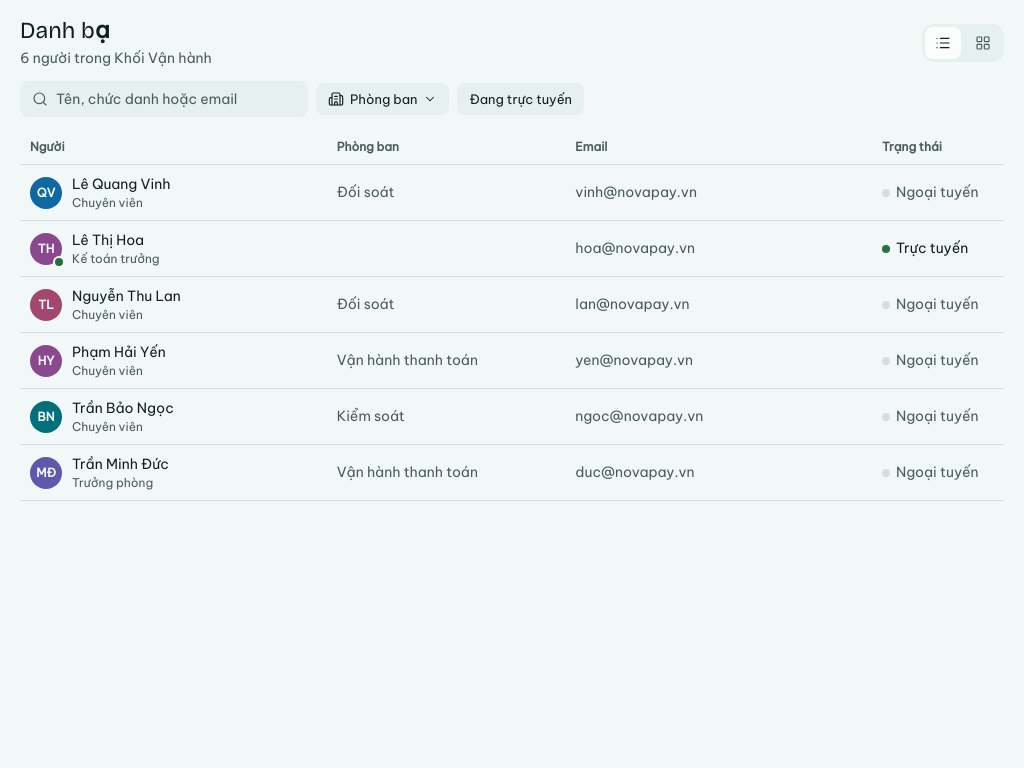
Scenario: ContactsScreen: a person's profile › opens beside the list with the details that exist, colleagues, and no identifier
This screenshot has width=1024, height=768.
Click the button "Nguyễn Thu Lan". click: click(126, 296)
box: [72,286,181,307]
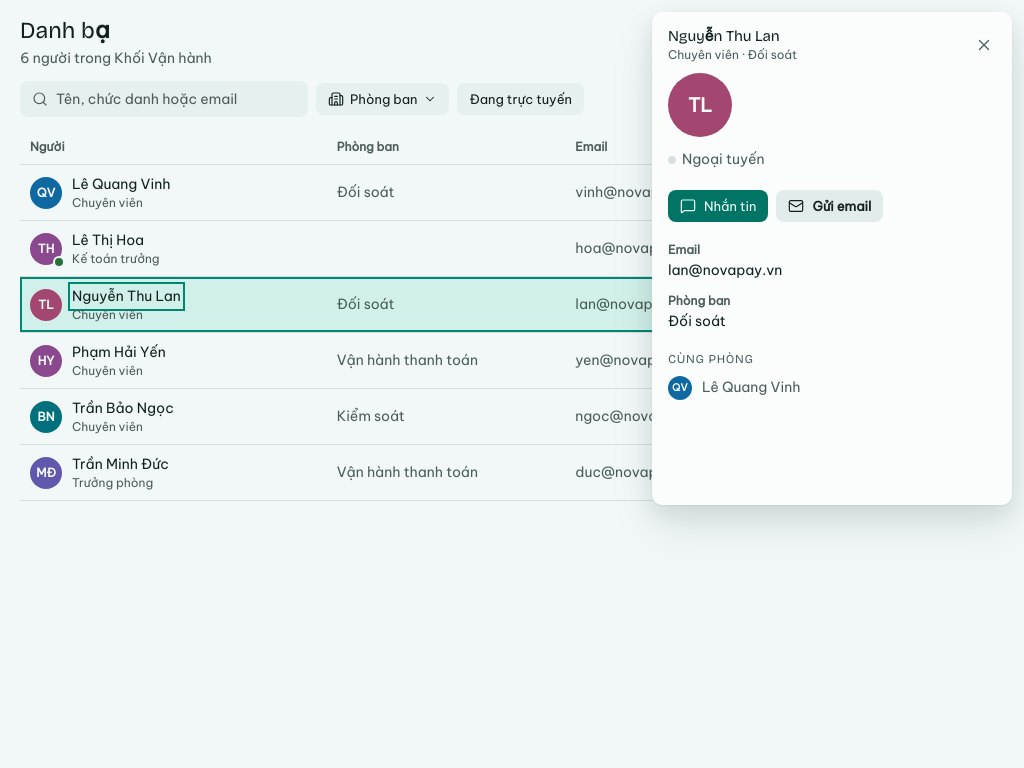
Now the heading "Nguyễn Thu Lan" is shown, box [668,26,797,47]
Now the text "Chuyên viên · Đối soát" is shown, box [668,47,797,63]
Now the text "lan@novapay.vn" is shown, box [668,261,782,279]
